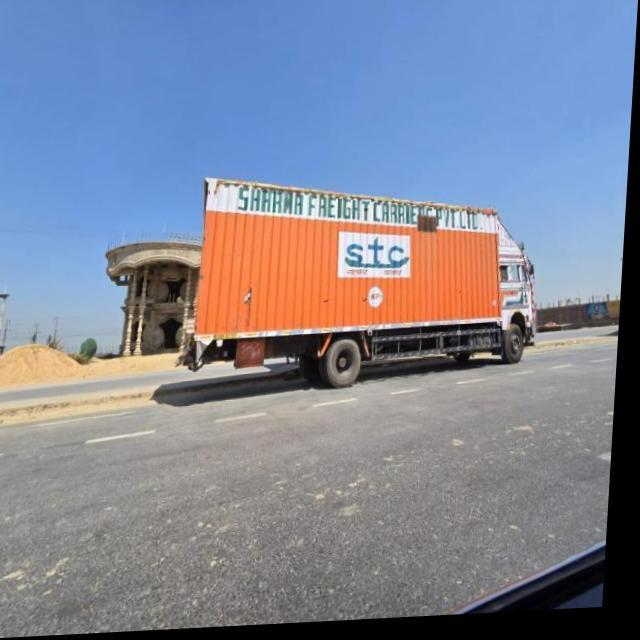covered: (196, 166, 534, 384)
